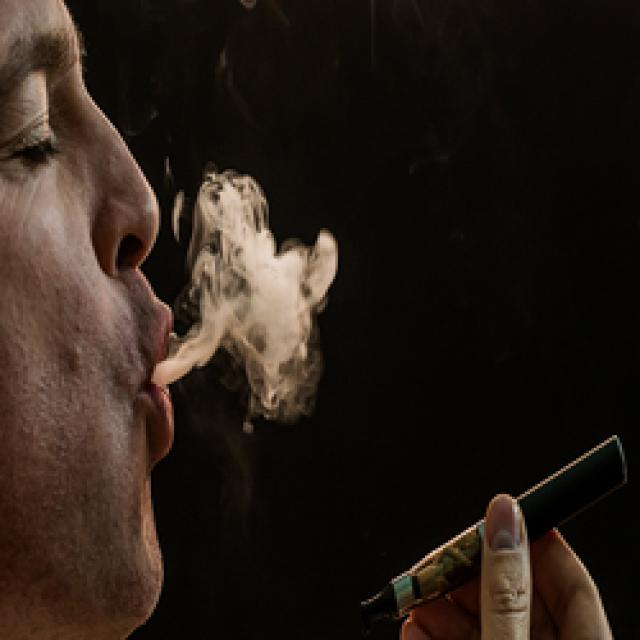Smooking: (337, 340, 627, 626)
